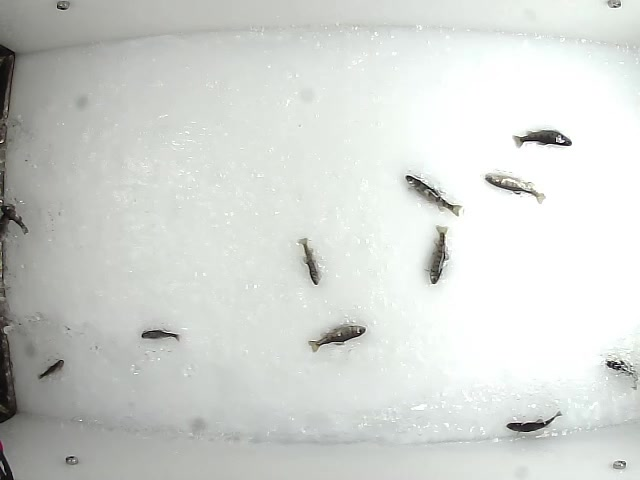fish: (404, 174, 465, 218), (483, 171, 549, 207), (305, 323, 366, 357), (424, 222, 451, 286), (504, 408, 561, 434), (510, 127, 573, 150), (296, 237, 322, 287), (604, 358, 640, 381), (33, 357, 65, 381), (138, 327, 183, 341)
